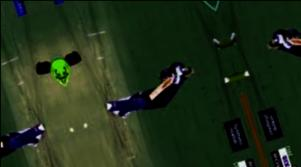batsman: (95, 44, 204, 144)
